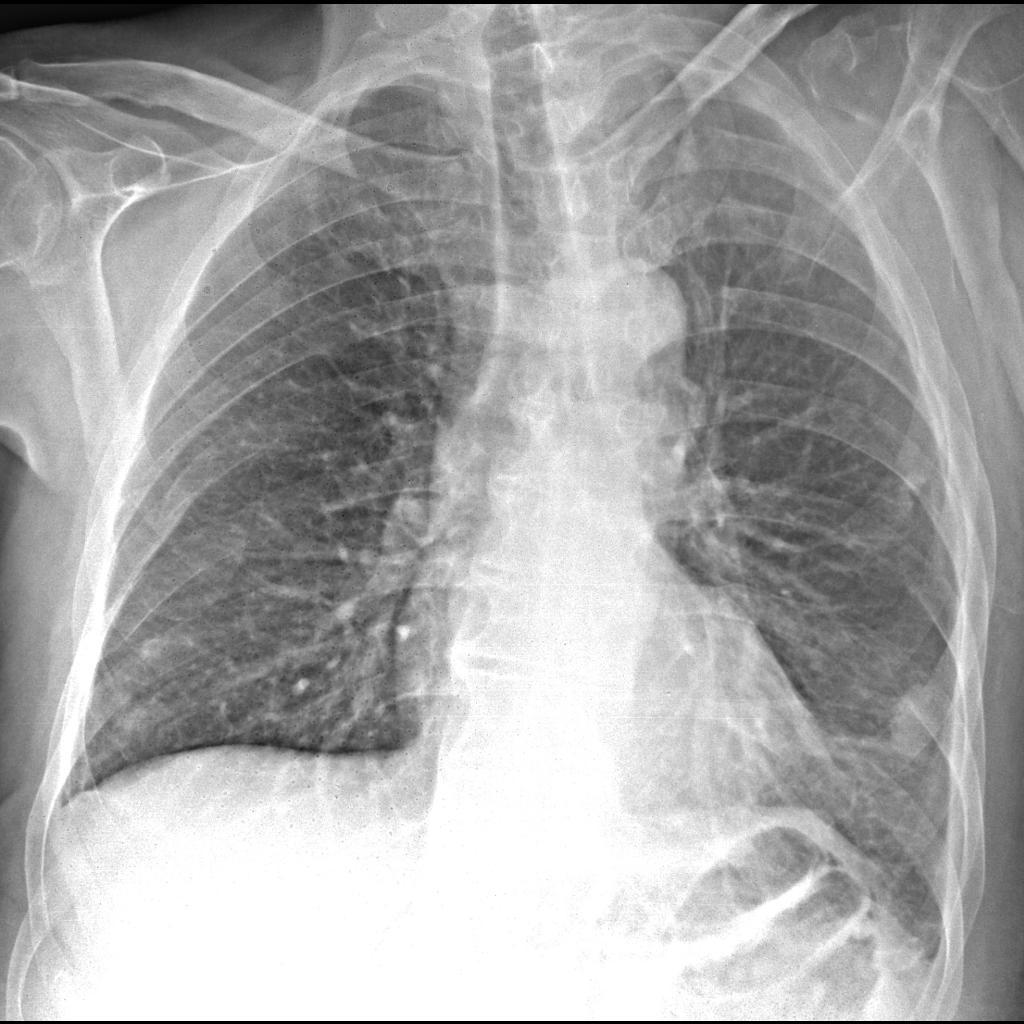Nodule: (887, 673, 952, 776)
